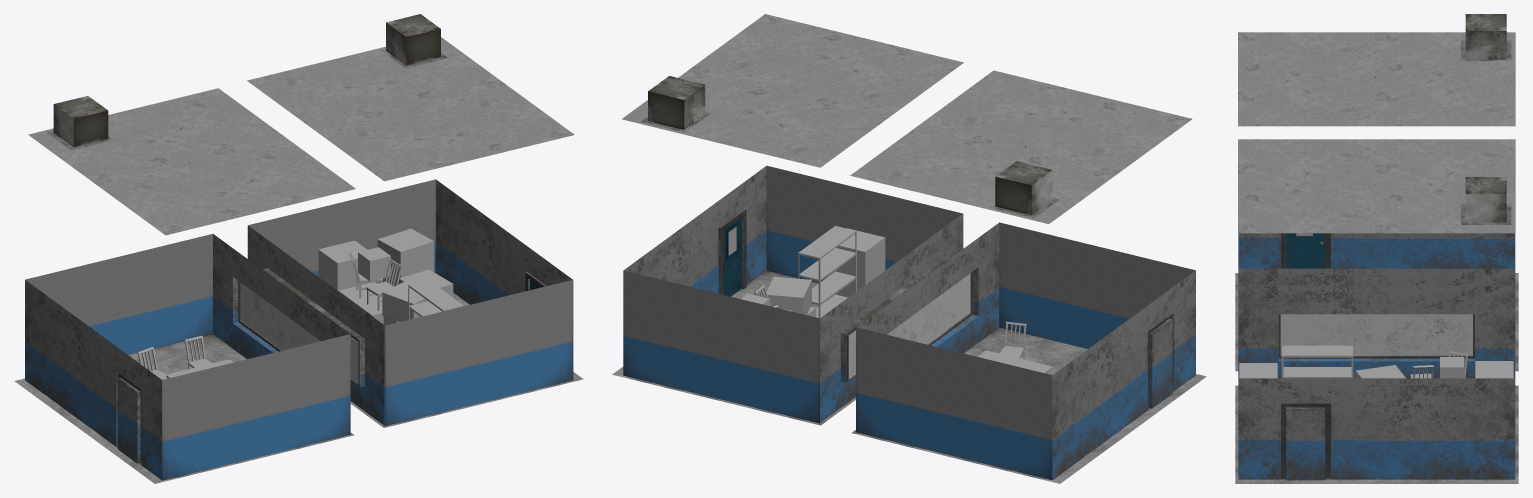
The model's file is interrogation rooms.fbx.
3 renders of one model, left to right at view 1: azimuth 30°, elevation 25°; view 2: azimuth 150°, elevation 25°; view 3: azimuth 270°, elevation 25°, orthographic. The views are drawn at different scales.
Visible parts, largest first — view 1: polySurface128, polySurface121, polySurface106, polySurface94, polySurface91, polySurface93, polySurface126, polySurface92, polySurface125, polySurface47, polySurface18, polySurface45 (+4 smaller); view 2: polySurface128, polySurface121, polySurface106, polySurface93, polySurface91, polySurface94, polySurface126, polySurface92, transform56, polySurface125, polySurface44, polySurface45 (+2 smaller); view 3: polySurface128, polySurface106, polySurface121, polySurface91, polySurface127, polySurface126, transform56, polySurface133, polySurface92, polySurface18, polySurface44, polySurface19 (+2 smaller).
Boxes of the visible parts, x1,y1,x2,y2 form: polySurface128: (247, 179, 583, 427); polySurface121: (247, 14, 574, 181); polySurface106: (28, 88, 355, 235); polySurface94: (162, 334, 350, 480); polySurface91: (25, 280, 161, 479); polySurface93: (25, 234, 212, 354); polySurface126: (213, 234, 349, 359); polySurface92: (14, 334, 354, 483); polySurface125: (240, 283, 320, 350); polySurface47: (377, 228, 434, 286); polySurface18: (318, 240, 371, 290); polySurface45: (382, 280, 427, 321); polySurface128: (612, 165, 963, 425); polySurface121: (622, 14, 963, 167); polySurface106: (850, 70, 1192, 224); polySurface93: (856, 327, 1052, 479); polySurface91: (1052, 270, 1195, 479); polySurface94: (999, 222, 1195, 348); polySurface126: (856, 223, 999, 353); polySurface92: (852, 327, 1206, 483); transform56: (798, 225, 856, 318); polySurface125: (887, 273, 970, 344); polySurface44: (827, 228, 885, 299); polySurface45: (765, 276, 811, 314); polySurface128: (1235, 285, 1518, 483); polySurface106: (1238, 14, 1515, 126); polySurface121: (1238, 139, 1515, 233); polySurface91: (1238, 233, 1515, 268); polySurface127: (1280, 314, 1472, 355); polySurface126: (1238, 268, 1515, 285); transform56: (1281, 345, 1353, 378); polySurface133: (1286, 233, 1325, 268); polySurface92: (1235, 273, 1518, 371); polySurface18: (1475, 361, 1513, 378); polySurface44: (1239, 363, 1277, 378); polySurface19: (1440, 357, 1464, 378).
Size of the model in its own units: 164 by 101 by 93.15.
